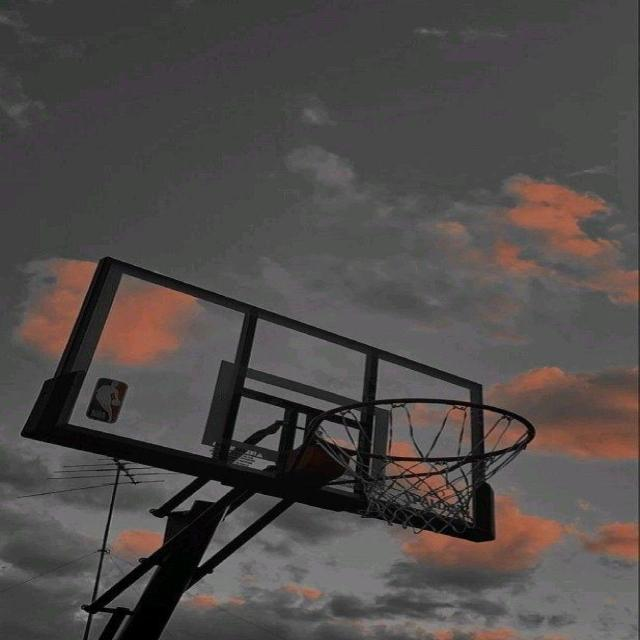hoop: (292, 404, 602, 541)
